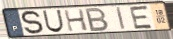B: (85, 7, 111, 33)
E: (129, 5, 155, 31)
H: (62, 8, 90, 33)
I: (115, 6, 127, 31)
S: (20, 10, 45, 36)
U: (41, 9, 65, 34)
